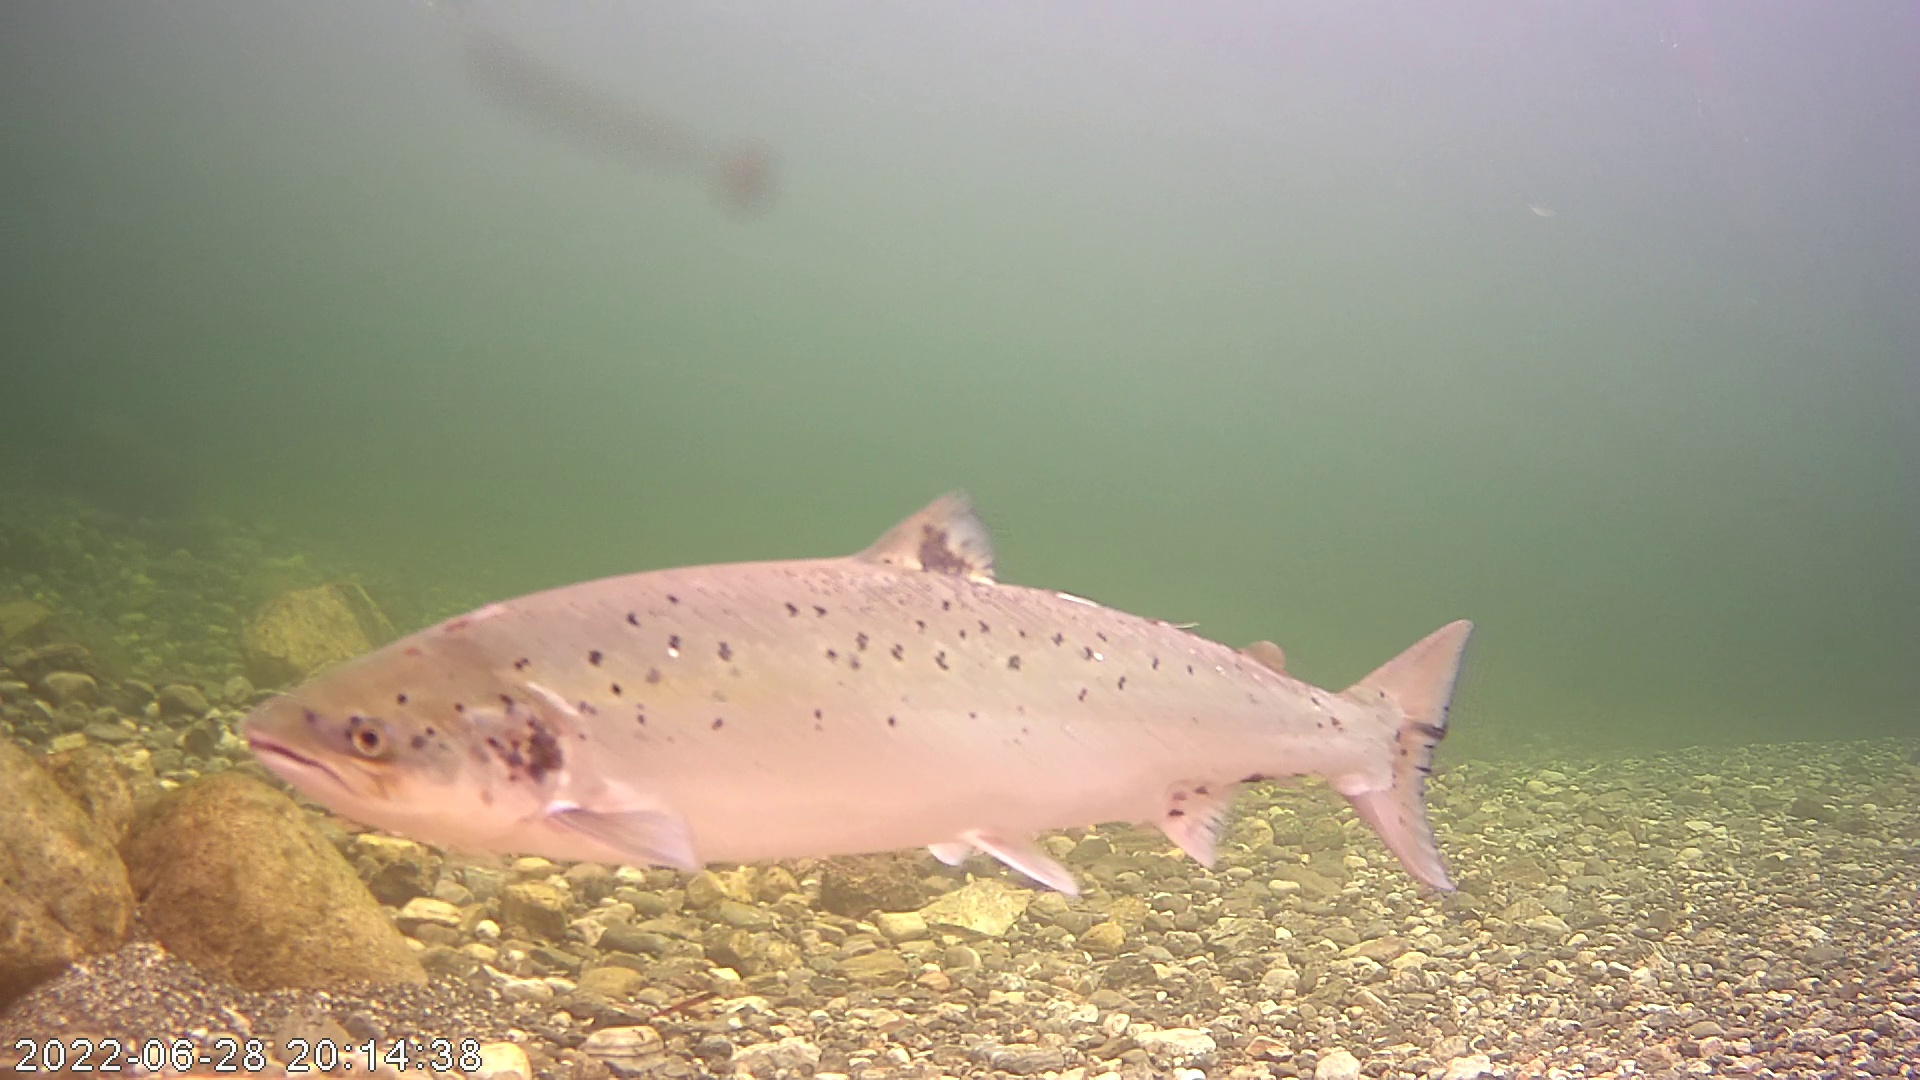salmon: (327, 443, 1495, 909)
